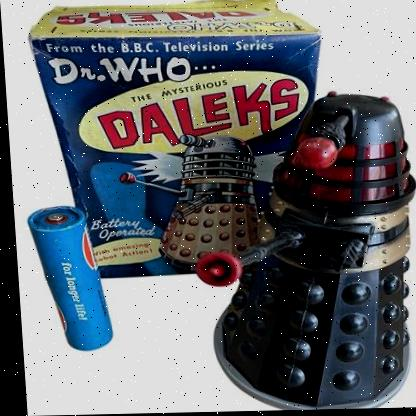dalek: (176, 72, 416, 411), (103, 120, 266, 287)
